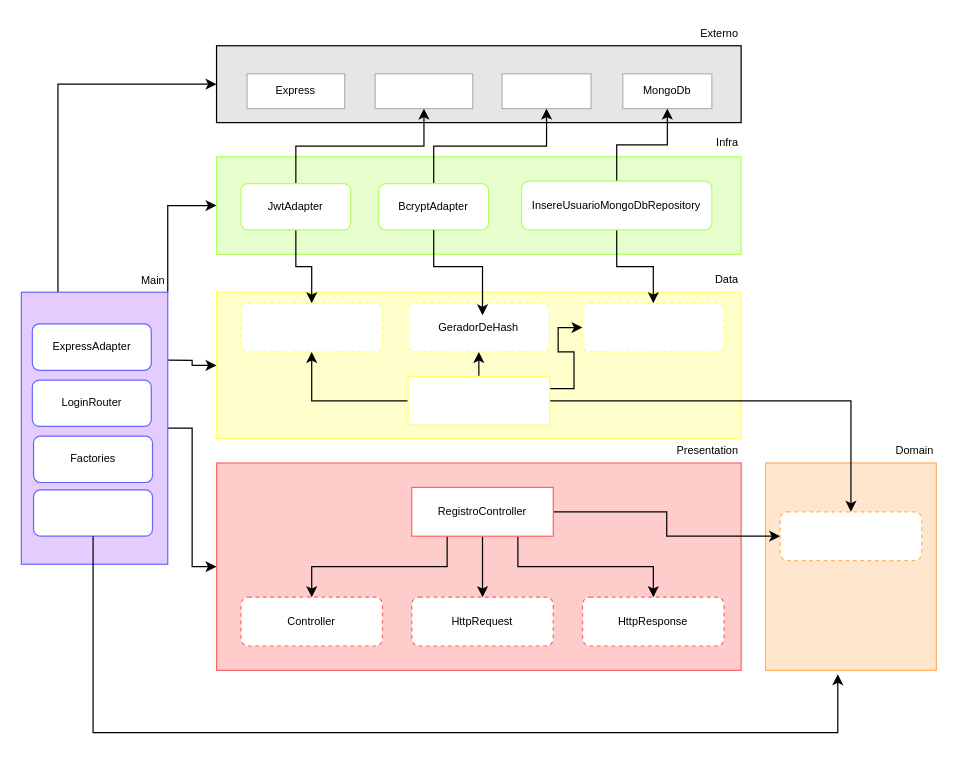
The diagram is 958 pixels wide and 764 high, and some of its shapes have lost their labels. Each missing label, with the centre of its shape:
"Bcrypt" belongs at (546,91).
"ExpressValidatorBuider" belongs at (92,512).
"GeradorToken" belongs at (311,327).
"JWT" belongs at (423,91).
"RegistradorUsuario" belongs at (652,327).
"RegistrarUsuario" belongs at (850,536).
"RegistroUsuario" belongs at (478,400).
